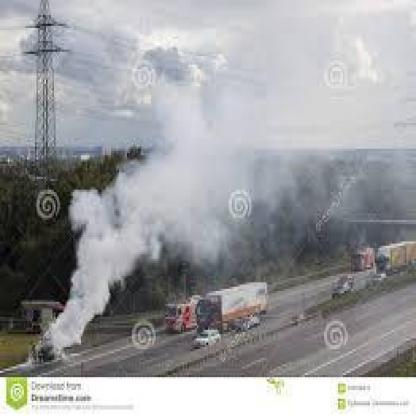smoke: (40, 168, 148, 347), (146, 91, 233, 251)
